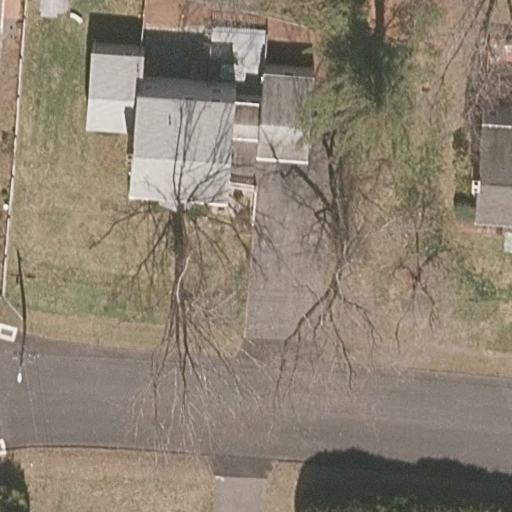DT: (11, 331, 41, 384)
